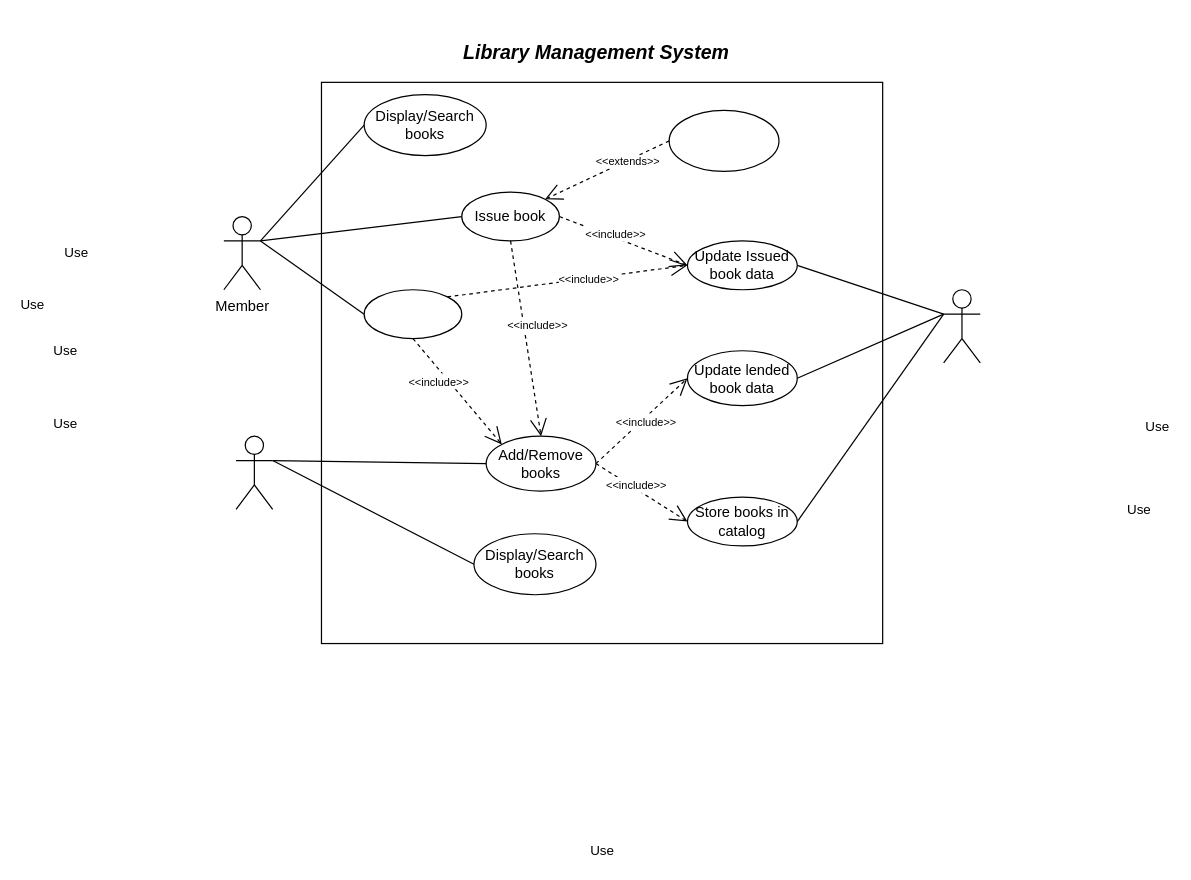
The diagram is 1191 pixels wide and 880 high, and some of its shapes have lost their labels. The centre of each missing label's shape, as x and y in pixels:
"Display error if not in catalog" goes at (723,140).
"Librarian" goes at (254,472).
"Return book" goes at (412,314).
"System" goes at (961,326).
